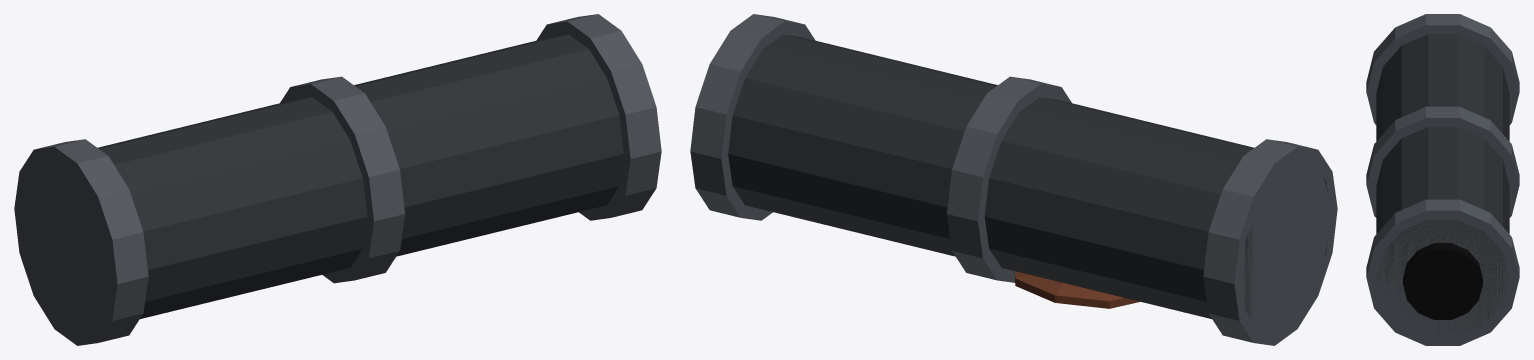
Rendered from pipe.glb.
3 views of the same model, side by side, from view 1: azimuth 30°, elevation 25°; view 2: azimuth 150°, elevation 25°; view 3: azimuth 270°, elevation 25° (orthographic). The views are drawn at different scales.
Parts seen in each view (by area): view 1: Pipe; view 2: Pipe; view 3: Pipe.
Boxes of the visible parts, <box> form: Pipe: <box>14,14,661,345</box>; Pipe: <box>690,14,1337,345</box>; Pipe: <box>1366,14,1519,345</box>.
Bounding box in the file's own units: 1.45 × 0.4485 × 0.46.
